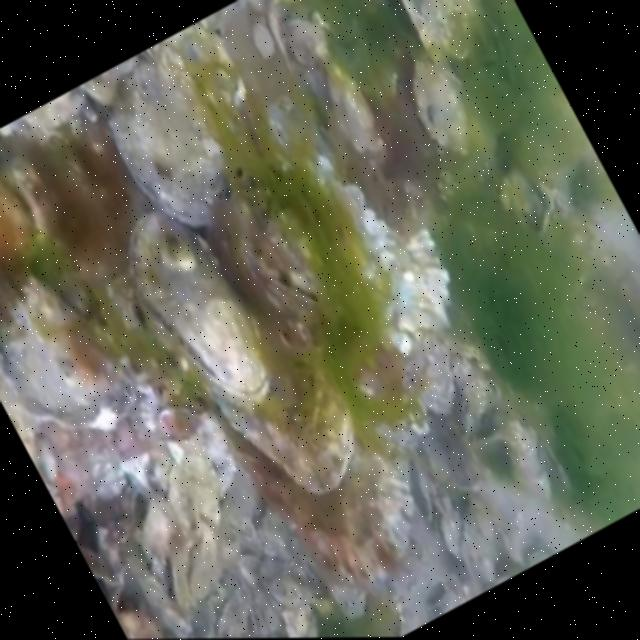Oyster-Closed: (129, 212, 274, 404), (108, 41, 229, 223), (0, 277, 138, 429), (435, 506, 463, 565), (221, 503, 251, 539)
Oyster-Indeterminate: (217, 147, 455, 356), (197, 319, 354, 491), (242, 439, 411, 577), (413, 55, 467, 149), (328, 63, 381, 152), (0, 361, 36, 464), (462, 497, 496, 584), (190, 525, 221, 597), (186, 456, 218, 521), (285, 17, 329, 62), (283, 608, 309, 638)
Oyster-Open: (401, 0, 478, 59), (6, 84, 84, 138)
